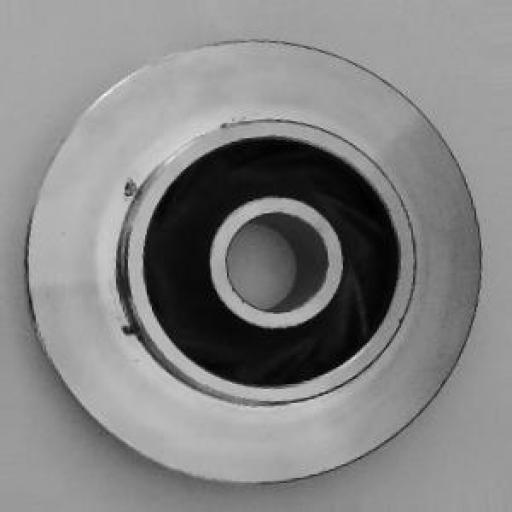defect: (112, 119, 170, 378)
